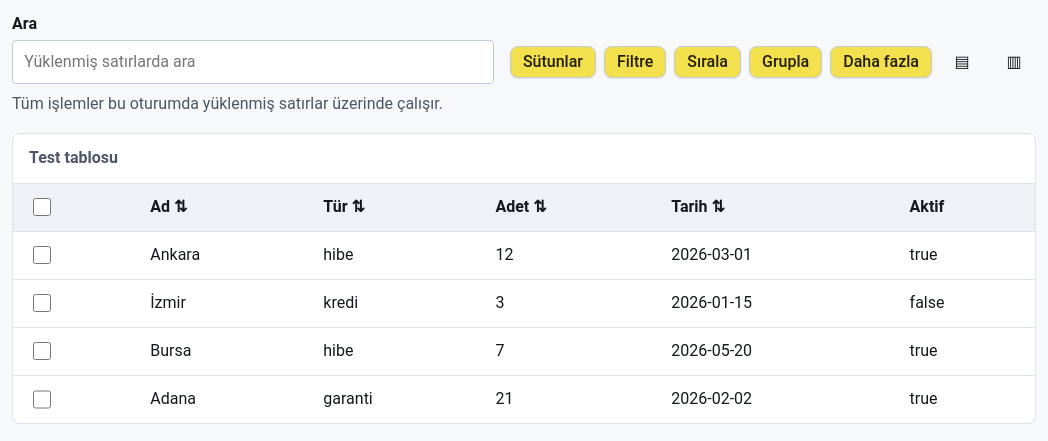
Test: search › narrows the visible rows and announces the count
The width and height of the screenshot is (1048, 441).
In the search field: [253, 62] box [12,40,494,84], type "ankara"
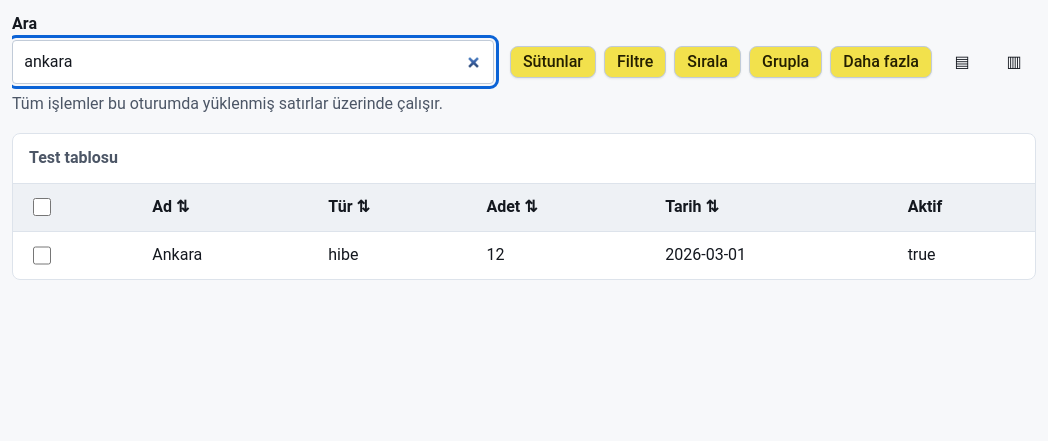
Check: the text "Ankara" is shown, box [136,231,312,279]
Check: the text "İzmir" is gone
